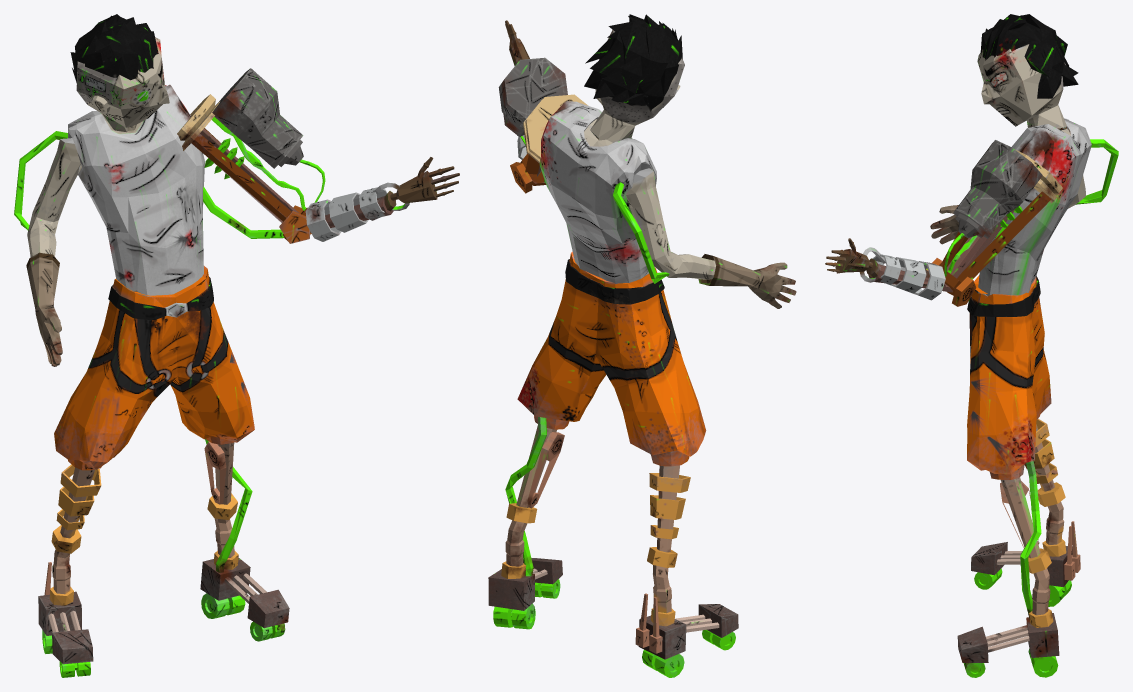
The model's file is CyborgFINALAnimation_000023.obj.
The picture shows the model from 3 angles, left to right: view 1: azimuth 30°, elevation 25°; view 2: azimuth 150°, elevation 25°; view 3: azimuth 270°, elevation 25°; orthographic projection. The views are drawn at different scales.
Parts seen in each view (by area): view 1: CyborgMesh_Cube.002; view 2: CyborgMesh_Cube.002; view 3: CyborgMesh_Cube.002.
Part boxes in pixels (x1=…): CyborgMesh_Cube.002: x1=14, y1=14, x2=459, y2=677; CyborgMesh_Cube.002: x1=488, y1=14, x2=796, y2=677; CyborgMesh_Cube.002: x1=825, y1=14, x2=1118, y2=677.
Bounding box in the file's own units: 5.46 × 9.52 × 4.19.
